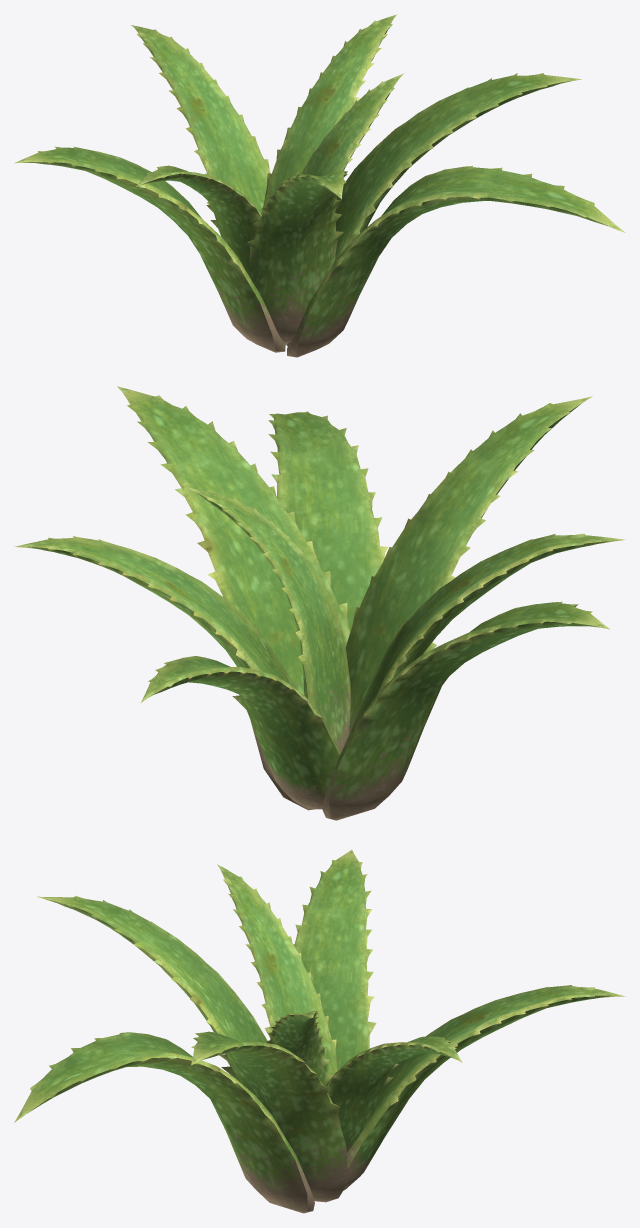
Rendered from aloe-vera-3.fbx.
3 views of the same model, one above another, from view 1: azimuth 30°, elevation 25°; view 2: azimuth 150°, elevation 25°; view 3: azimuth 270°, elevation 25° (orthographic). The views are drawn at different scales.
Parts seen in each view (by area): view 1: Aloe_Vera_A; view 2: Aloe_Vera_A; view 3: Aloe_Vera_A.
Boxes of the visible parts, x1=… form: Aloe_Vera_A: x1=14, y1=14, x2=625, y2=357; Aloe_Vera_A: x1=14, y1=386, x2=625, y2=820; Aloe_Vera_A: x1=14, y1=850, x2=625, y2=1213.
Size of the model in its own units: 48.81 by 52.63 by 25.46.
1 material, 1 textured.
